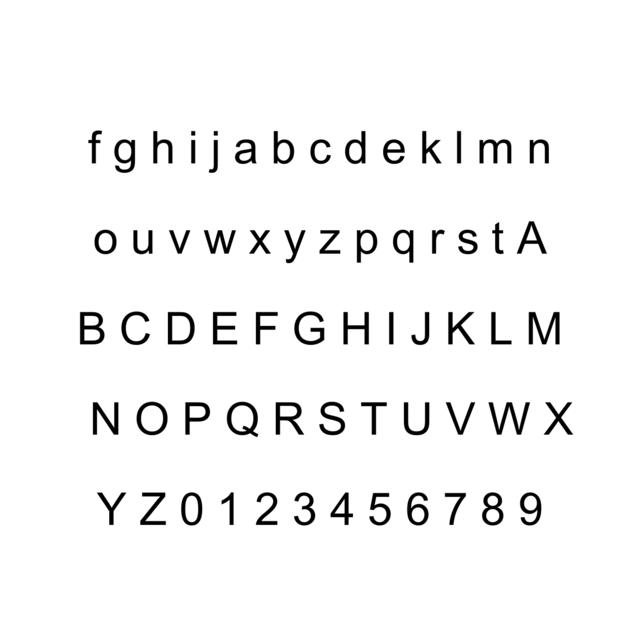alphabet: (487, 401, 528, 437), (135, 400, 169, 438), (226, 401, 260, 438), (294, 309, 326, 347), (526, 310, 559, 345), (118, 310, 150, 346), (444, 401, 476, 437), (96, 490, 128, 526), (516, 220, 547, 256), (318, 399, 346, 438), (273, 401, 303, 437), (544, 401, 574, 437), (358, 401, 388, 436), (167, 310, 196, 346), (447, 310, 476, 346), (183, 401, 210, 437), (342, 310, 369, 346), (403, 402, 431, 436), (91, 402, 119, 436), (202, 229, 237, 256), (80, 310, 106, 346), (211, 310, 237, 346), (405, 310, 431, 346), (138, 491, 166, 524), (478, 138, 512, 165), (354, 228, 377, 266), (272, 129, 296, 165), (282, 229, 306, 265), (256, 491, 280, 527), (293, 490, 317, 526), (519, 490, 542, 527), (407, 489, 430, 526), (506, 402, 531, 436), (256, 310, 280, 345), (112, 138, 135, 174), (330, 491, 354, 525), (481, 491, 504, 526), (179, 491, 202, 526), (344, 129, 366, 165), (392, 229, 414, 265), (370, 490, 392, 526), (444, 491, 467, 525), (154, 129, 175, 165), (490, 310, 511, 345), (422, 131, 442, 165), (382, 138, 406, 165), (94, 230, 118, 257), (234, 138, 257, 165), (309, 138, 332, 165), (132, 228, 154, 256), (168, 230, 191, 256), (317, 230, 340, 256), (248, 230, 271, 256), (528, 138, 550, 165), (457, 230, 478, 258), (88, 129, 104, 164), (219, 490, 233, 526), (490, 222, 504, 257), (430, 230, 445, 256), (454, 130, 463, 164)
